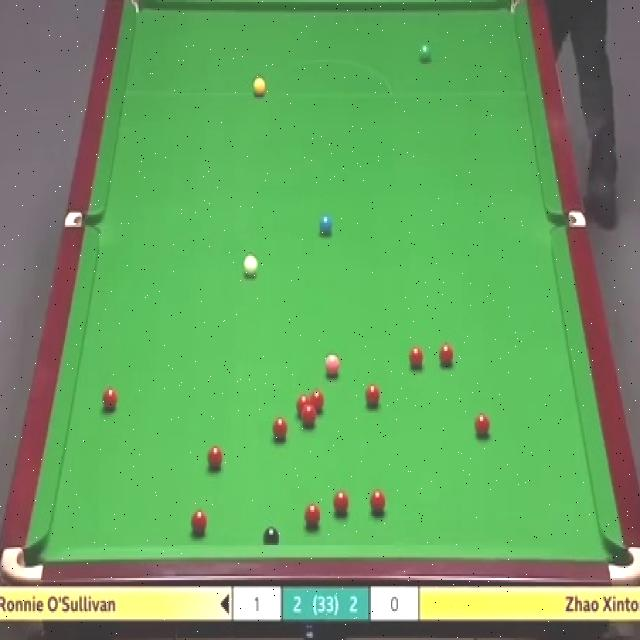black-ball: (262, 526, 280, 546)
blue-ball: (317, 210, 333, 237)
green-ball: (417, 44, 432, 63)
pink-ball: (324, 350, 340, 377)
red-ball: (407, 344, 425, 373), (102, 386, 120, 414), (206, 444, 223, 472), (190, 509, 208, 535), (473, 415, 491, 441), (369, 488, 386, 515), (364, 382, 380, 409), (305, 502, 321, 528), (333, 490, 349, 516), (272, 416, 288, 441), (438, 344, 454, 369), (310, 390, 325, 415), (302, 407, 316, 427), (297, 394, 310, 415)
white-ball: (242, 252, 260, 278)
yellow-ball: (252, 75, 266, 96)
